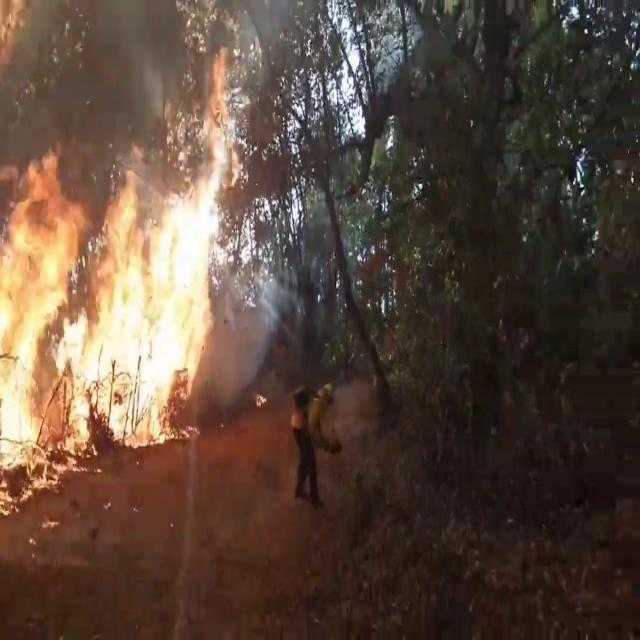Fire: (1, 98, 248, 470)
